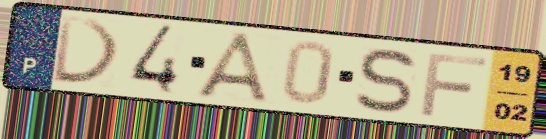0: (278, 39, 336, 108)
4: (126, 22, 183, 97)
A: (192, 30, 276, 107)
D: (50, 14, 126, 87)
F: (417, 51, 490, 119)
S: (352, 47, 419, 116)
